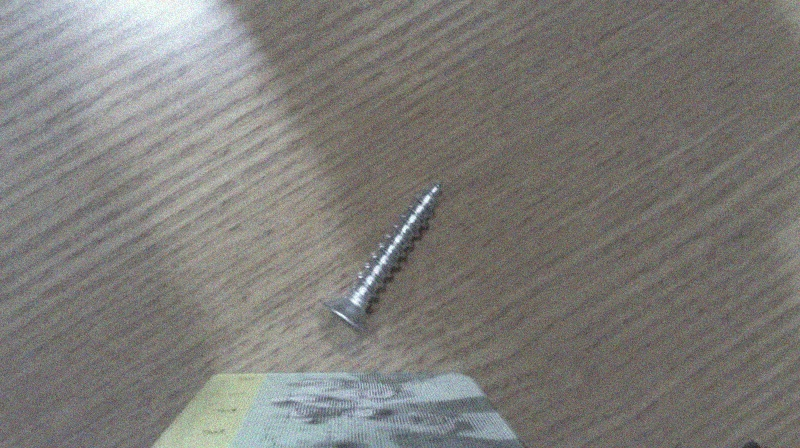S001: (318, 174, 449, 343)
